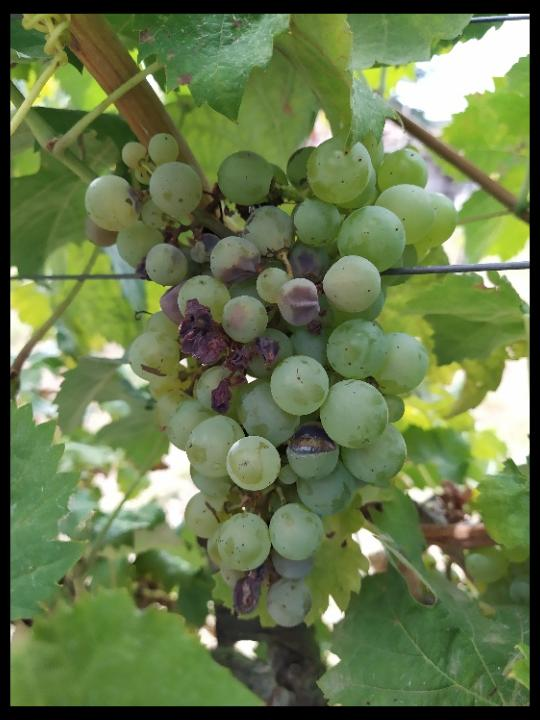grape: (81, 131, 459, 629)
